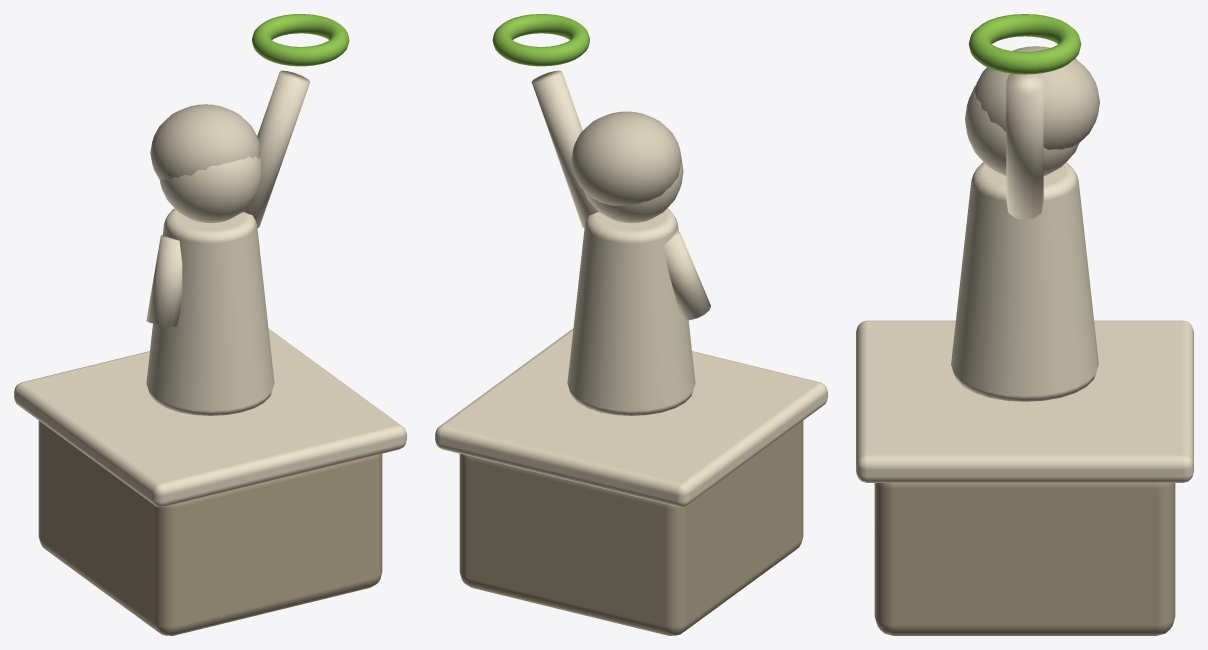
The model's file is statue.glb.
3 views of the same model, side by side, from view 1: azimuth 30°, elevation 25°; view 2: azimuth 150°, elevation 25°; view 3: azimuth 270°, elevation 25° (orthographic). The views are drawn at different scales.
Parts seen in each view (by area): view 1: statue; view 2: statue; view 3: statue.
Part boxes in pixels (x1,y1,x2,y2): statue: (14, 14, 406, 635); statue: (435, 14, 827, 635); statue: (856, 14, 1193, 635).
Size of the model in its own units: 0.92 by 1.75 by 0.9.
